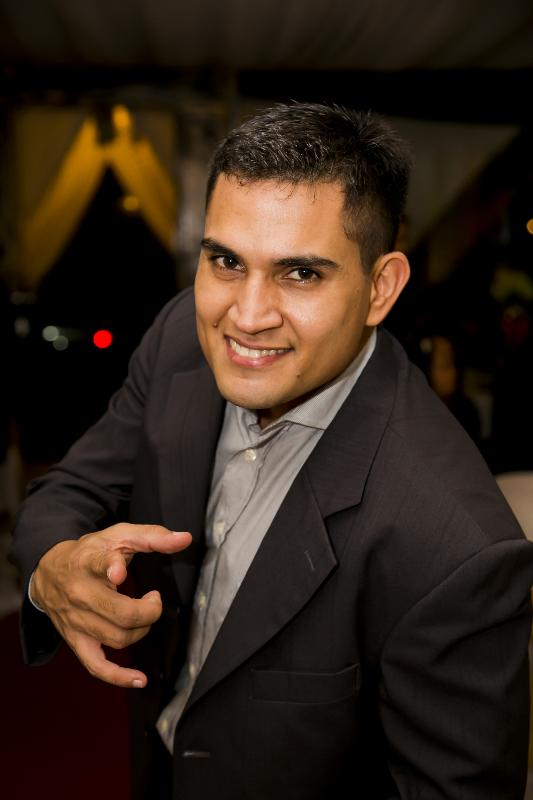Person: (7, 104, 533, 794)
